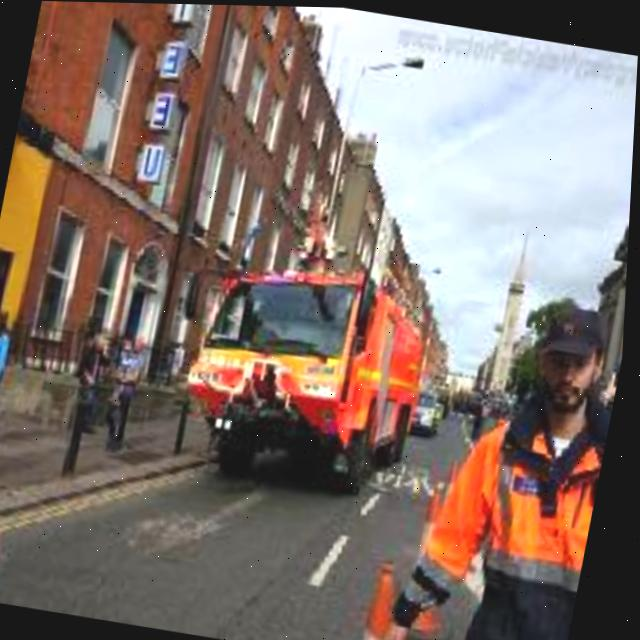emergency: (139, 180, 484, 554)
